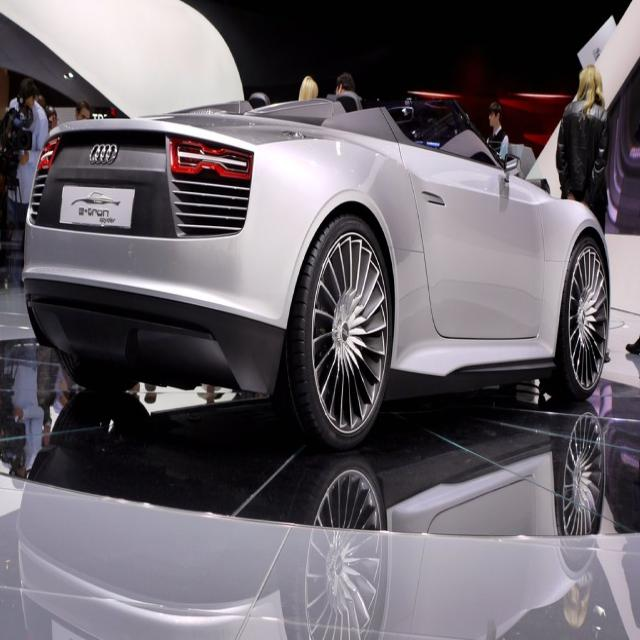car: (17, 86, 610, 437)
